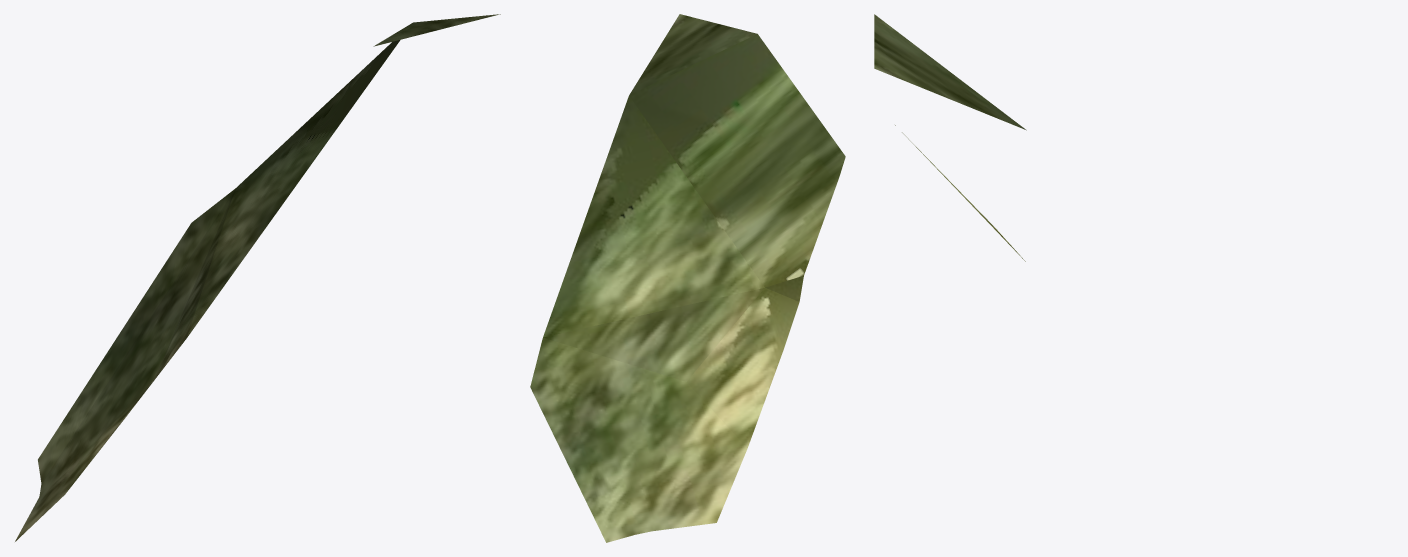
3 views of the same model, side by side, from view 1: azimuth 30°, elevation 25°; view 2: azimuth 150°, elevation 25°; view 3: azimuth 270°, elevation 25° (orthographic). The views are drawn at different scales.
Size of the model in its own units: 2.05 by 4.41 by 3.78.
Materials: 1 (1 with a texture image).
